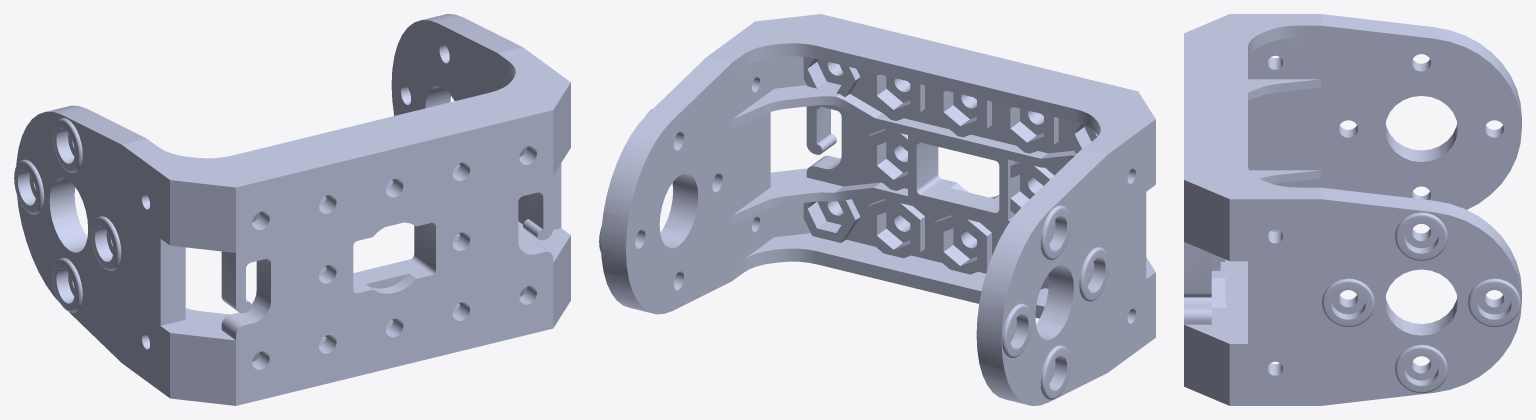
The model's file is c_3_robot_export_clean__FP04_F2_1.dae.
The picture shows the model from 3 angles, left to right: view 1: azimuth 30°, elevation 25°; view 2: azimuth 150°, elevation 25°; view 3: azimuth 270°, elevation 25°; orthographic projection. The views are drawn at different scales.
Visible parts, largest first — view 1: node0; view 2: node0; view 3: node0.
Boxes of the visible parts, x1,y1,x2,y2 form: node0: (14,14,570,405); node0: (599,14,1155,405); node0: (1184,14,1521,405).
Size of the model in its own units: 0.0488 by 0.025 by 0.037.
